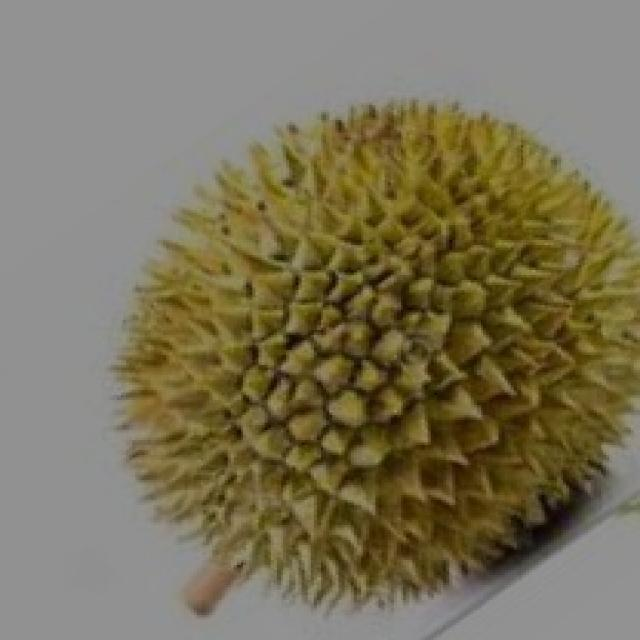fruit: (252, 240, 640, 638), (62, 252, 424, 638)
